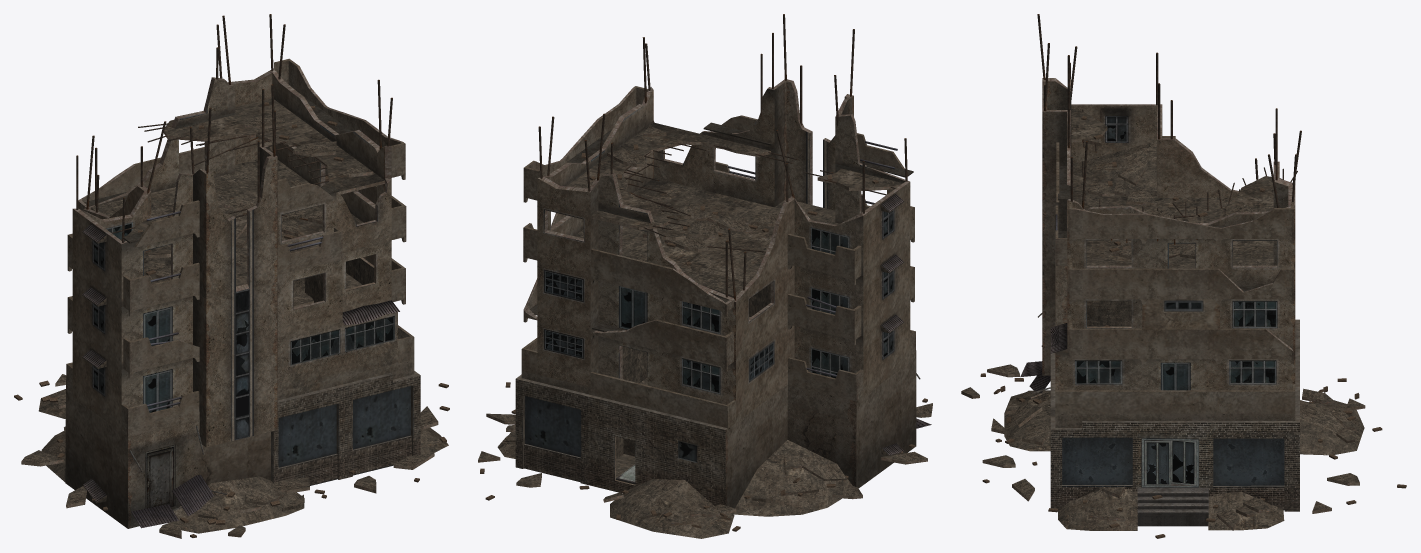
Rendered from buildings_10_ruin.FBX.
3 renders of one model, left to right at view 1: azimuth 30°, elevation 25°; view 2: azimuth 150°, elevation 25°; view 3: azimuth 270°, elevation 25°, orthographic. The views are drawn at different scales.
Visible parts, largest first — view 1: Object069; view 2: Object069; view 3: Object069.
Boxes of the visible parts, bbox=[...] form: Object069: bbox=[14, 14, 449, 538]; Object069: bbox=[478, 14, 932, 538]; Object069: bbox=[961, 14, 1406, 538].
Size of the model in its own units: 2058 by 2000 by 1974.
Materials: 1 (1 with a texture image).
